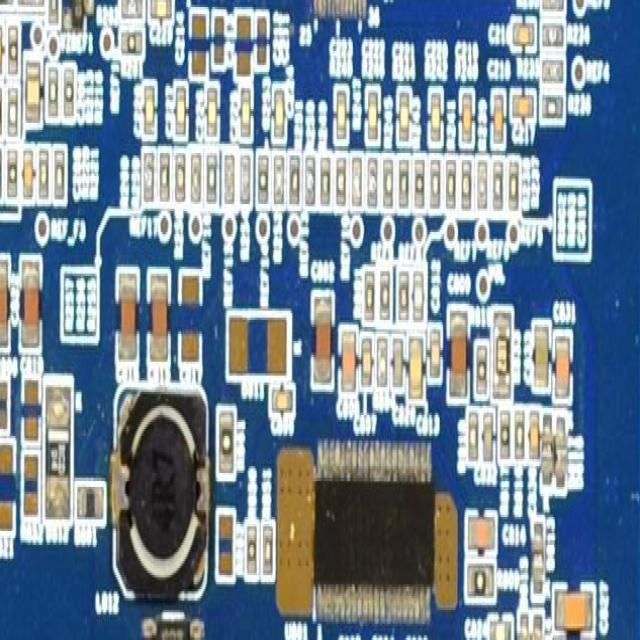IC: (313, 440, 435, 626), (290, 0, 389, 28)
capacitor: (554, 584, 595, 630), (314, 294, 333, 388), (119, 271, 137, 363), (150, 274, 167, 364), (22, 260, 39, 349), (20, 376, 41, 443), (450, 308, 466, 395), (532, 322, 550, 394), (0, 445, 16, 522), (408, 334, 424, 404), (142, 84, 160, 144), (467, 514, 496, 550), (175, 76, 191, 140), (270, 81, 287, 140), (457, 90, 474, 148), (556, 336, 571, 400), (238, 90, 254, 146), (392, 338, 406, 399), (509, 88, 535, 120), (206, 79, 220, 138), (396, 86, 410, 144), (343, 329, 355, 396), (361, 334, 374, 394), (410, 269, 426, 317), (0, 260, 9, 343), (367, 84, 380, 140), (429, 88, 442, 144), (528, 406, 541, 462), (22, 146, 35, 201), (513, 18, 534, 52), (488, 614, 515, 640), (492, 90, 504, 144), (482, 413, 494, 466), (430, 324, 442, 376), (271, 390, 293, 418), (337, 88, 348, 141), (149, 0, 174, 23), (0, 25, 3, 79)
resistor: (467, 558, 494, 604), (22, 457, 39, 521), (359, 264, 377, 324), (218, 413, 235, 476), (442, 153, 458, 216), (536, 56, 568, 84), (120, 23, 146, 57), (395, 160, 413, 206), (474, 341, 489, 394), (378, 264, 392, 320), (53, 144, 66, 204), (541, 95, 566, 125), (475, 156, 490, 206), (7, 18, 19, 78), (398, 271, 412, 322), (540, 20, 565, 48), (287, 148, 301, 198), (459, 164, 473, 214), (247, 520, 259, 578), (238, 151, 251, 204), (223, 153, 236, 205), (46, 67, 58, 123), (499, 408, 512, 459), (351, 156, 364, 206), (256, 153, 268, 207), (5, 151, 18, 199), (380, 158, 393, 206), (262, 522, 273, 577), (142, 153, 154, 203), (320, 155, 331, 209), (515, 408, 526, 462), (65, 67, 75, 123), (492, 158, 504, 204), (426, 160, 438, 206), (191, 153, 202, 203), (510, 155, 520, 209), (206, 153, 217, 201), (37, 153, 49, 196), (414, 153, 423, 208), (176, 153, 186, 199), (368, 158, 378, 204), (159, 153, 168, 203), (307, 158, 316, 206), (337, 160, 347, 201), (274, 156, 283, 198), (121, 0, 142, 16), (544, 0, 565, 12), (0, 83, 4, 137), (0, 0, 12, 9)
transistor: (60, 0, 92, 32)
